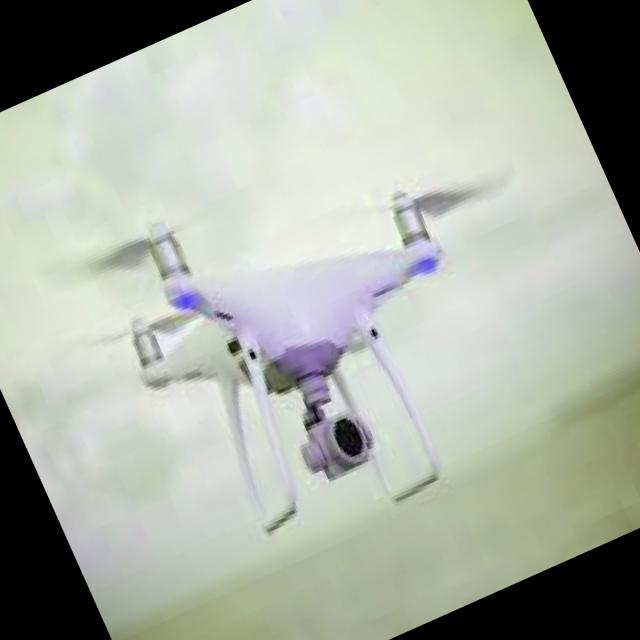drone: (0, 69, 617, 640)
